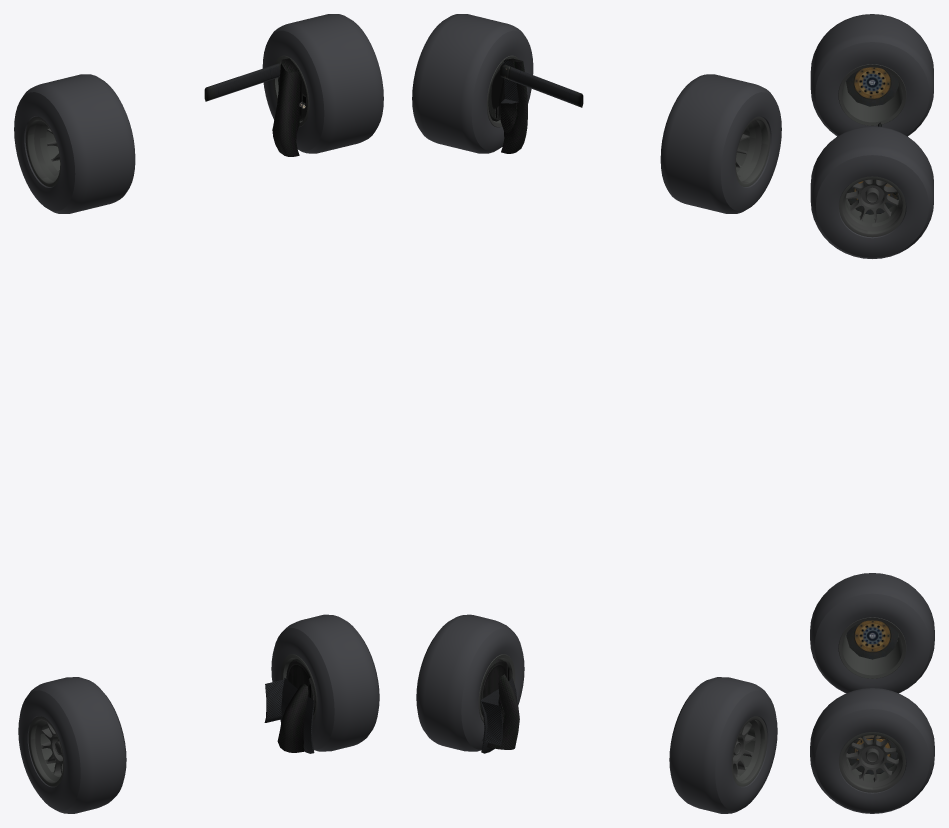
The model's file is 4wheels.obj.
The picture shows the model from 3 angles, left to right: view 1: azimuth 30°, elevation 25°; view 2: azimuth 150°, elevation 25°; view 3: azimuth 270°, elevation 25°; orthographic projection. The views are drawn at different scales.
Parts seen in each view (by area): view 1: object__50, object__52, object__46, object__48, object__45, object__49, object__27, object__47, object__51, object__29, object__18, object__20 (+1 smaller); view 2: object__50, object__52, object__46, object__48, object__45, object__49, object__47, object__27, object__51, object__29, object__18, object__20 (+1 smaller); view 3: object__47, object__51, object__45, object__49, object__52, object__50, object__48, object__46, object__21, object__19, object__18, object__20 (+4 smaller).
Part boxes in pixels (x1,y1,x2,y2): object__50: (22, 74, 135, 213); object__52: (269, 14, 383, 153); object__46: (28, 677, 125, 813); object__48: (282, 614, 378, 751); object__45: (18, 690, 126, 810); object__49: (14, 92, 134, 211); object__27: (264, 659, 315, 753); object__47: (271, 628, 379, 749); object__51: (262, 30, 324, 150); object__29: (272, 58, 307, 156); object__18: (28, 716, 64, 786); object__20: (25, 116, 60, 186); object__50: (660, 74, 774, 213); object__52: (412, 14, 525, 153); object__46: (670, 677, 767, 813); object__48: (417, 614, 513, 751); object__45: (669, 690, 777, 810); object__49: (661, 92, 781, 211); object__47: (416, 628, 524, 749); object__27: (480, 659, 519, 753); object__51: (471, 30, 533, 150); object__29: (488, 58, 527, 153); object__18: (731, 716, 767, 786); object__20: (735, 116, 770, 186); object__47: (815, 709, 929, 812); object__51: (815, 155, 928, 257); object__45: (814, 593, 930, 692); object__49: (815, 42, 929, 135); object__52: (810, 126, 933, 258); object__50: (810, 14, 933, 136); object__48: (810, 688, 934, 813); object__46: (810, 573, 934, 693); object__21: (839, 176, 905, 237); object__19: (839, 732, 905, 792); object__18: (838, 617, 906, 678); object__20: (838, 64, 906, 125).
Bounding box in the file's own units: 1.76 × 3.85 × 0.6512.
